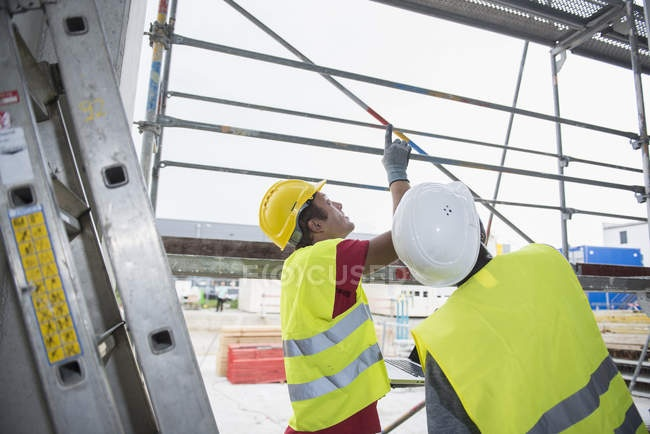white: (393, 179, 487, 295)
yellow: (261, 182, 356, 259)
